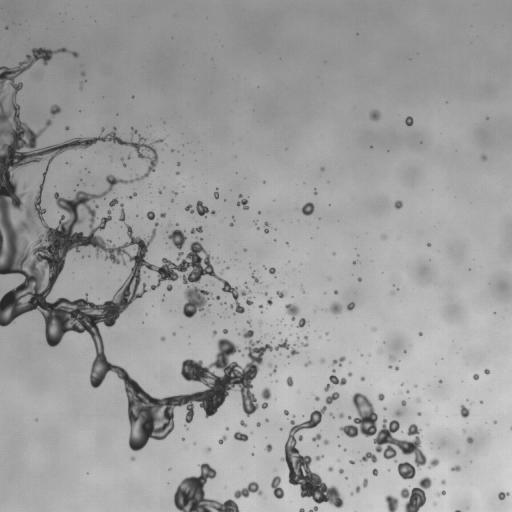droplet: (174, 462, 239, 511), (400, 477, 431, 511), (324, 372, 346, 391), (271, 476, 284, 498), (285, 303, 299, 320), (385, 494, 398, 511), (360, 452, 377, 462), (301, 202, 314, 215), (237, 194, 248, 209), (329, 302, 342, 314), (233, 431, 248, 441), (332, 356, 345, 366), (50, 104, 60, 115), (370, 110, 380, 121), (460, 405, 469, 417), (297, 318, 307, 327), (498, 492, 509, 500), (146, 211, 155, 220), (405, 116, 413, 126), (109, 198, 117, 208), (394, 200, 402, 209), (312, 433, 321, 441), (347, 302, 355, 310), (218, 435, 226, 443), (276, 291, 285, 298), (286, 377, 293, 386), (451, 465, 460, 471), (268, 267, 275, 274), (245, 298, 252, 305), (265, 444, 272, 451), (372, 468, 378, 476), (166, 284, 172, 291), (378, 393, 384, 400), (240, 420, 246, 427), (466, 437, 473, 443), (315, 455, 323, 460), (437, 491, 445, 496), (132, 128, 138, 134), (267, 298, 272, 305), (363, 479, 367, 487), (389, 356, 394, 362), (304, 361, 310, 366), (484, 369, 490, 374), (355, 486, 360, 492), (214, 191, 218, 198), (481, 155, 486, 160), (473, 374, 478, 379), (314, 396, 319, 401), (339, 413, 344, 418), (323, 439, 328, 444), (395, 411, 401, 415), (160, 213, 165, 217), (222, 329, 227, 333), (401, 400, 405, 405), (284, 410, 288, 415), (299, 508, 305, 511), (173, 191, 177, 195), (357, 277, 361, 281), (161, 336, 165, 340), (416, 398, 420, 402), (256, 422, 260, 426), (206, 448, 210, 452), (350, 460, 354, 464), (328, 467, 332, 471), (339, 469, 343, 473), (441, 480, 445, 484), (247, 320, 250, 325), (320, 167, 324, 170), (230, 222, 233, 226), (334, 290, 337, 294), (215, 296, 219, 299), (259, 305, 262, 309), (213, 330, 216, 334), (321, 359, 324, 363), (394, 367, 398, 370), (348, 372, 351, 376), (101, 128, 104, 131), (123, 163, 126, 166), (177, 162, 180, 165), (254, 221, 257, 224), (427, 243, 430, 246), (263, 265, 266, 268), (373, 327, 376, 330), (304, 336, 307, 339), (361, 377, 364, 380), (439, 380, 442, 383), (330, 413, 333, 416), (131, 457, 134, 460), (65, 127, 68, 129), (159, 190, 161, 193), (314, 190, 316, 193), (382, 235, 384, 238), (419, 332, 421, 335), (403, 350, 406, 352), (268, 364, 271, 366), (389, 365, 391, 368), (418, 412, 420, 415), (348, 416, 351, 418), (265, 419, 268, 421), (494, 420, 496, 423), (350, 492, 353, 494), (82, 73, 84, 75), (79, 86, 81, 88), (128, 156, 130, 158), (121, 158, 123, 160), (177, 172, 179, 174), (354, 261, 356, 263), (259, 323, 261, 325), (326, 332, 328, 334), (401, 383, 403, 385), (383, 407, 385, 409), (226, 428, 228, 430), (182, 438, 184, 440)
ligament: (0, 52, 298, 451), (340, 392, 439, 479), (281, 406, 343, 511), (185, 201, 215, 216), (234, 482, 262, 498), (261, 387, 271, 408), (325, 392, 339, 404), (190, 226, 202, 234), (119, 204, 124, 221), (251, 274, 259, 283), (270, 366, 276, 375), (264, 222, 268, 233), (128, 193, 136, 198), (155, 139, 163, 142), (300, 343, 307, 346), (455, 510, 460, 511)
